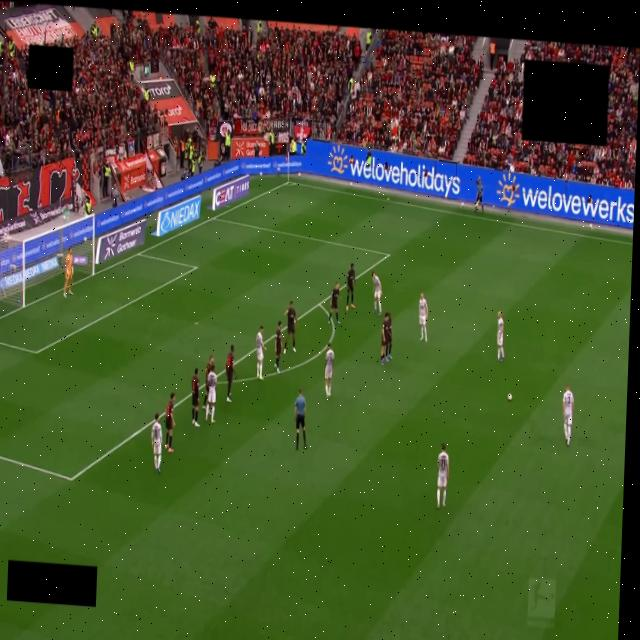ball: (508, 394, 512, 401)
player: (437, 443, 449, 508), (562, 385, 573, 446), (284, 302, 297, 353), (151, 413, 162, 472), (206, 365, 217, 424), (226, 346, 237, 402), (165, 393, 175, 453), (203, 356, 213, 409), (63, 248, 73, 298), (325, 343, 334, 397), (328, 283, 340, 323), (419, 293, 428, 342), (256, 325, 264, 379), (192, 367, 199, 427), (346, 264, 355, 310), (372, 271, 381, 316), (275, 321, 282, 373), (381, 314, 388, 364), (497, 311, 504, 361), (386, 312, 392, 361)
referee: (294, 389, 306, 450)
